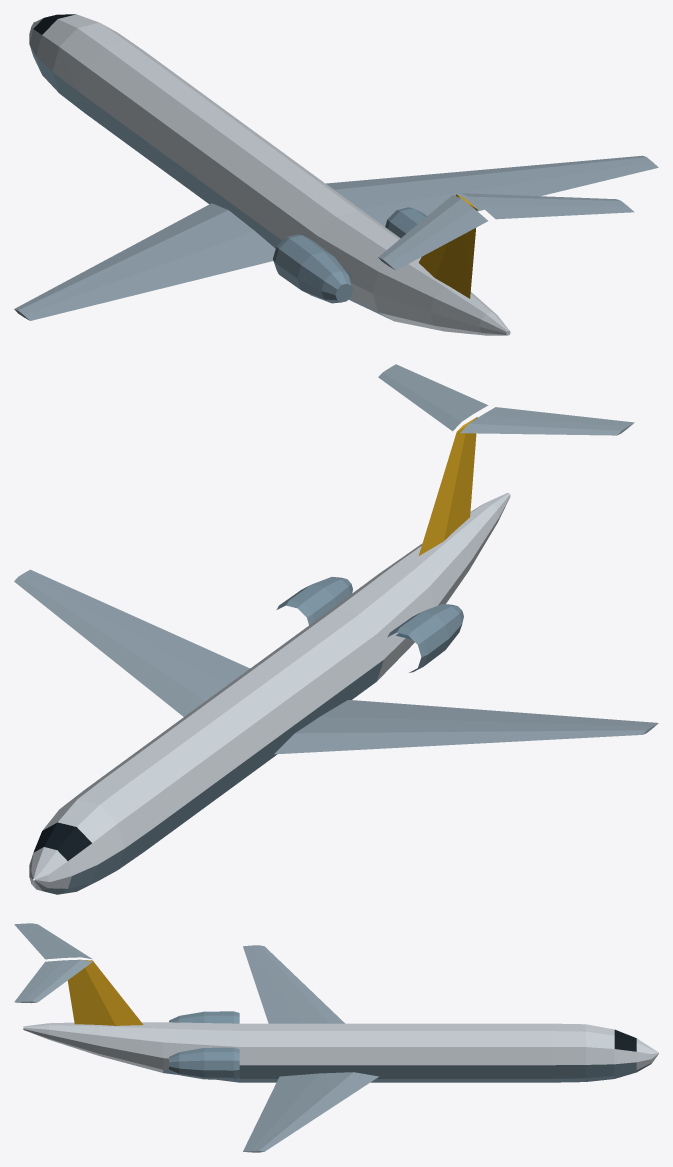
3 renders of one model, top to bottom at view 1: azimuth 30°, elevation 25°; view 2: azimuth 150°, elevation 25°; view 3: azimuth 270°, elevation 25°, orthographic. The views are drawn at different scales.
Parts seen in each view (by area): view 1: lod0; view 2: lod0; view 3: lod0.
Boxes of the visible parts, bbox=[...] form: lod0: bbox=[14, 14, 658, 335]; lod0: bbox=[14, 364, 658, 894]; lod0: bbox=[14, 923, 658, 1152].
Size of what is drawn, in the model's own units: 0.754 by 0.206 by 1.
